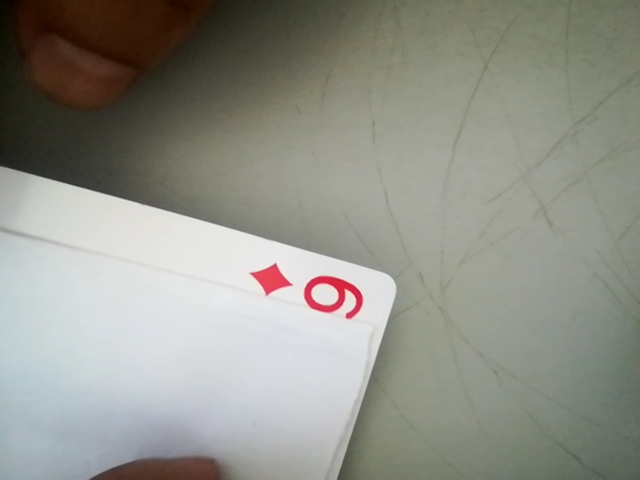fk 6: (246, 261, 380, 326)
